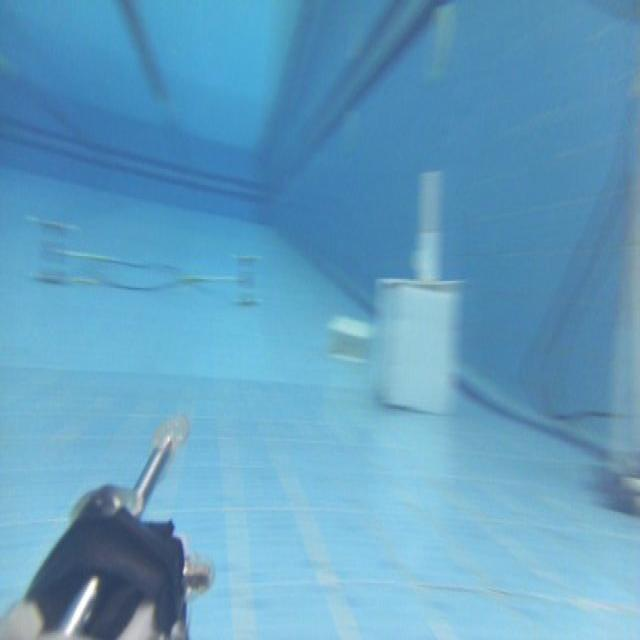Cube: (371, 272, 465, 416)
